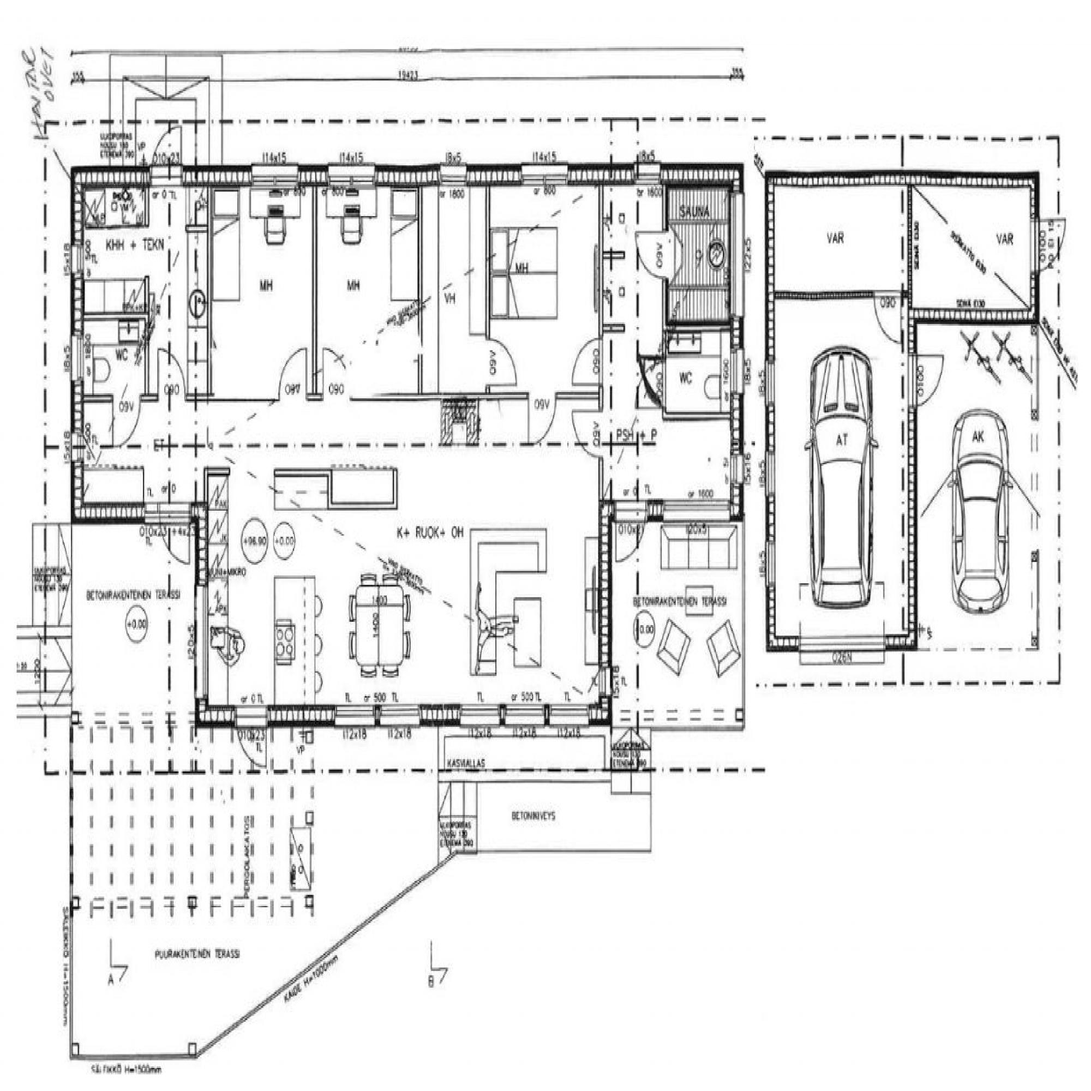wall: (71, 165, 666, 187), (195, 705, 612, 726), (71, 165, 83, 524), (71, 395, 603, 402), (599, 500, 743, 522), (71, 502, 208, 524), (599, 500, 612, 726), (195, 502, 208, 726), (731, 326, 744, 522), (729, 165, 743, 326), (666, 165, 744, 189), (662, 165, 668, 326), (207, 165, 211, 401), (313, 165, 317, 401), (599, 165, 603, 401), (486, 165, 490, 395), (662, 321, 743, 332), (419, 165, 422, 401), (662, 413, 743, 420), (71, 312, 149, 319), (599, 395, 603, 522), (145, 276, 149, 402), (328, 502, 397, 509), (274, 468, 332, 475), (662, 326, 666, 419), (145, 165, 149, 226), (204, 468, 208, 524), (204, 468, 230, 475), (186, 225, 211, 232), (328, 468, 332, 509), (393, 469, 397, 509)
